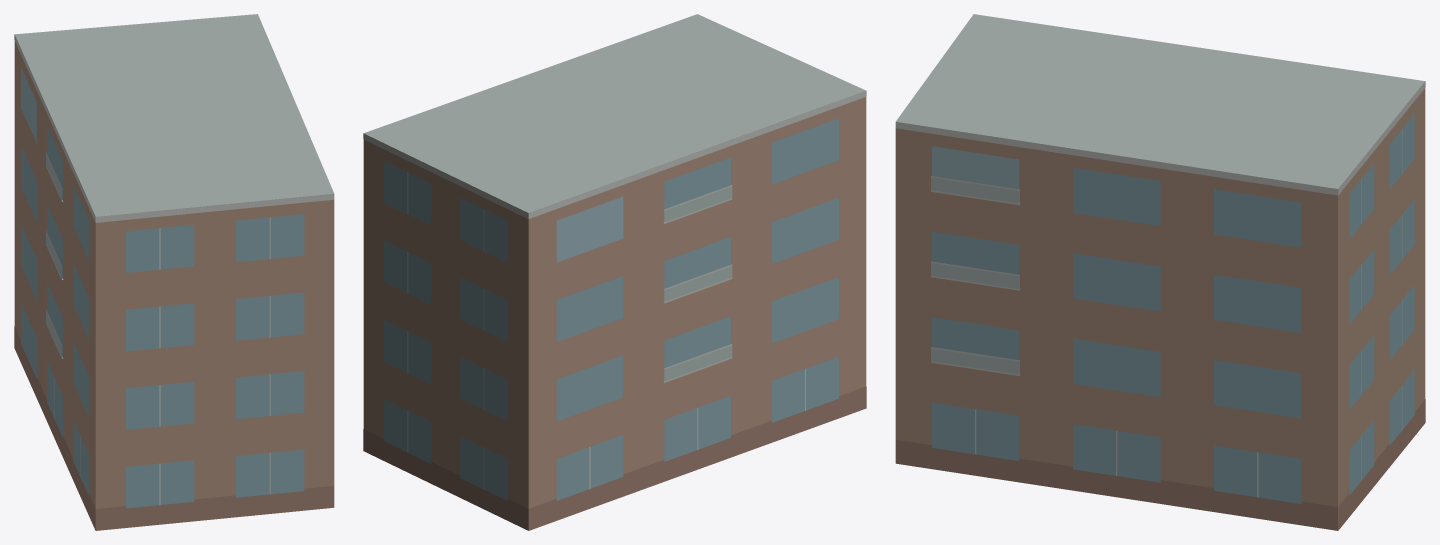
The model's file is survey-upis-32769353.glb.
3 renders of one model, left to right at view 1: azimuth 30°, elevation 25°; view 2: azimuth 150°, elevation 25°; view 3: azimuth 270°, elevation 25°, orthographic. The views are drawn at different scales.
Parts seen in each view (by area): view 1: survey-upis-32769353.tmp; view 2: survey-upis-32769353.tmp; view 3: survey-upis-32769353.tmp.
Part boxes in pixels (<box>): survey-upis-32769353.tmp: <box>14,14,334,530</box>; survey-upis-32769353.tmp: <box>363,14,866,530</box>; survey-upis-32769353.tmp: <box>895,14,1425,530</box>.
Bounding box in the file's own units: 14.07 × 12.8 × 17.99.
